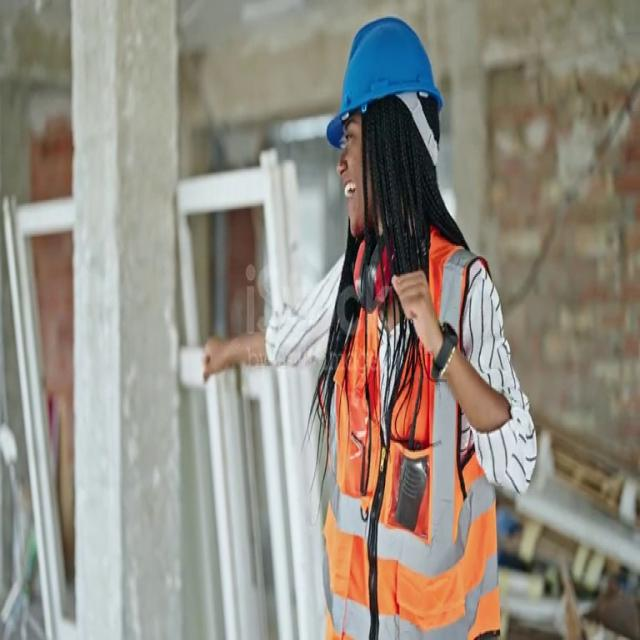capacete: (312, 15, 449, 145)
